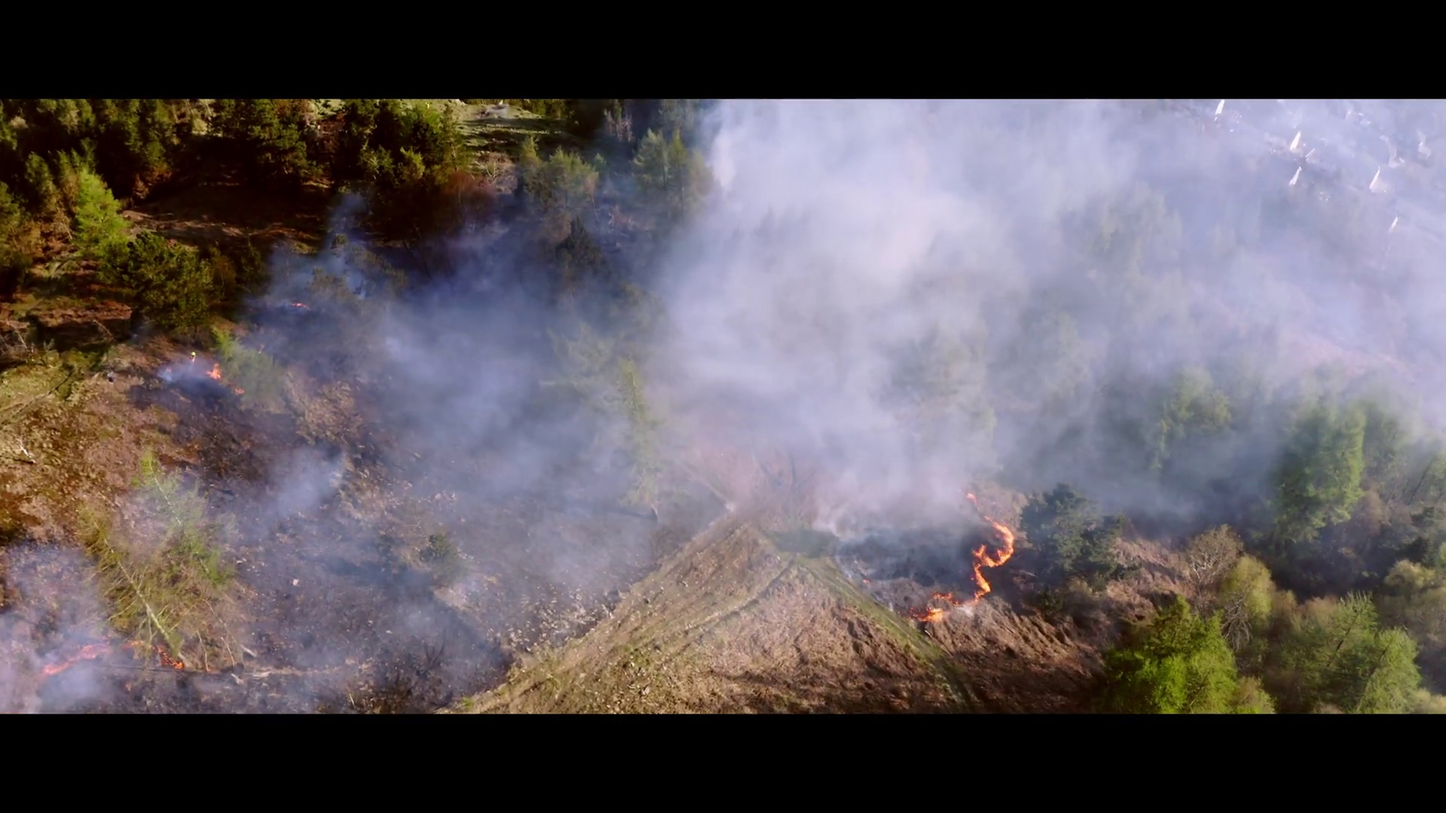forest_fire: (932, 494, 1014, 608), (41, 644, 111, 676), (155, 647, 186, 670), (909, 606, 945, 622), (208, 364, 219, 379), (126, 642, 144, 650)
